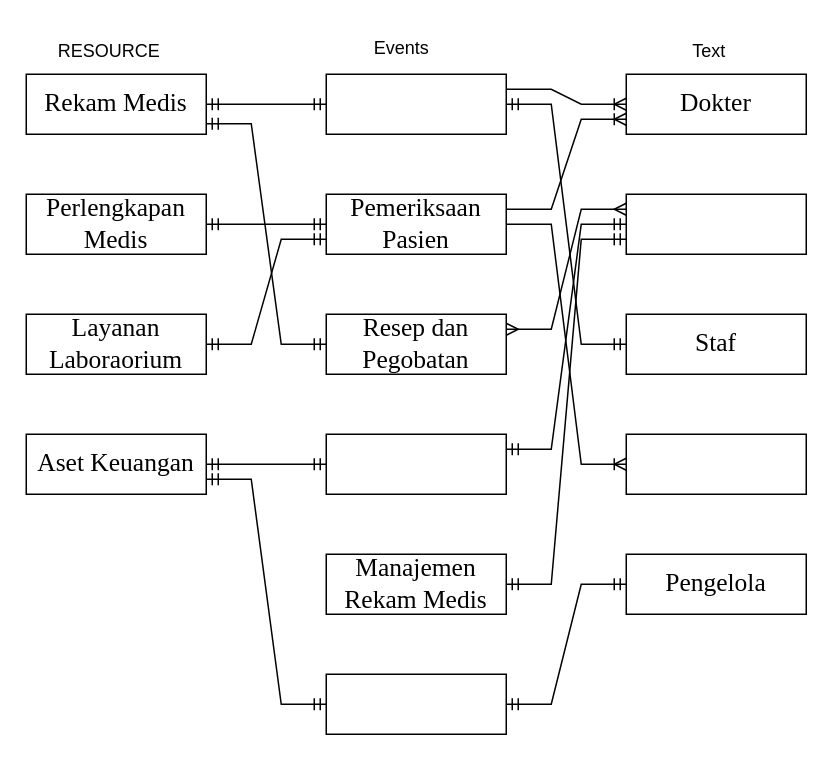
This 833x761 diagram has some shape labels left out. Here are the shapes that lost their labels. From the top down, the centre of each, then its label:
(415,103): Pendaftaran Pasien
(715,223): Pasien
(415,463): Pembayaran
(715,463): Perawat
(415,703): Pelaporan Keuangan
